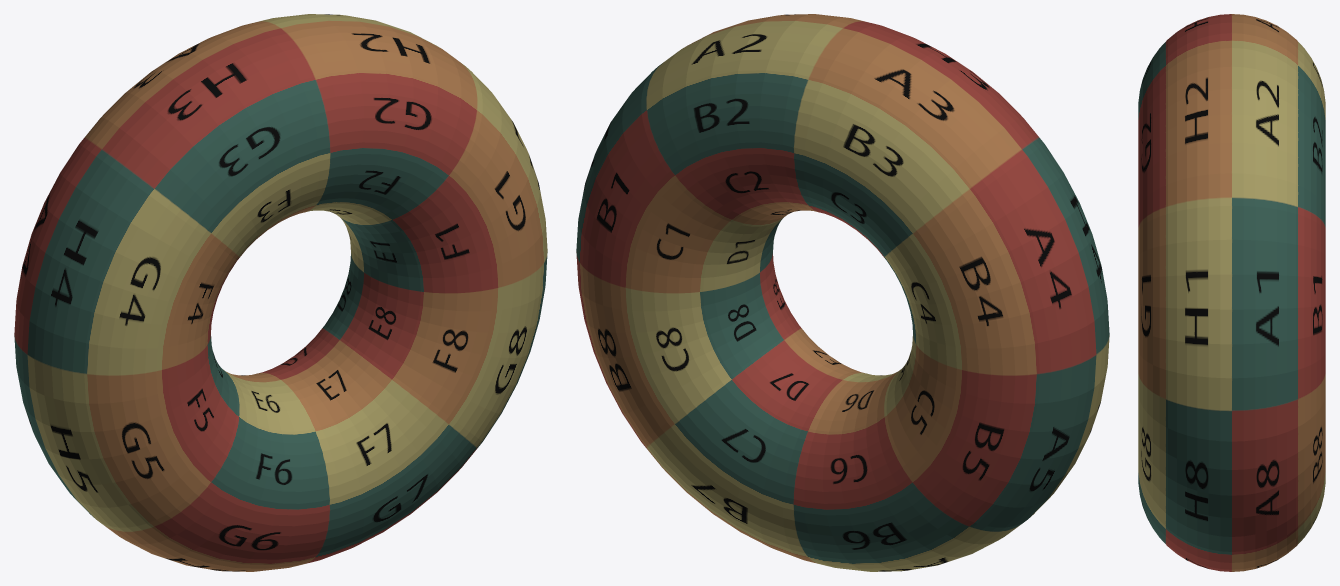
The model's file is texture_torus_R2_r14.glb.
3 renders of one model, left to right at view 1: azimuth 30°, elevation 25°; view 2: azimuth 150°, elevation 25°; view 3: azimuth 270°, elevation 25°, orthographic. The views are drawn at different scales.
Parts seen in each view (by area): view 1: world; view 2: world; view 3: world.
Part boxes in pixels (<box>): world: <box>14,14,547,571</box>; world: <box>576,14,1109,571</box>; world: <box>1138,14,1325,571</box>.
Size of the model in its own units: 17.07 by 17.03 by 5.72.
Materials: 1 (1 with a texture image).
